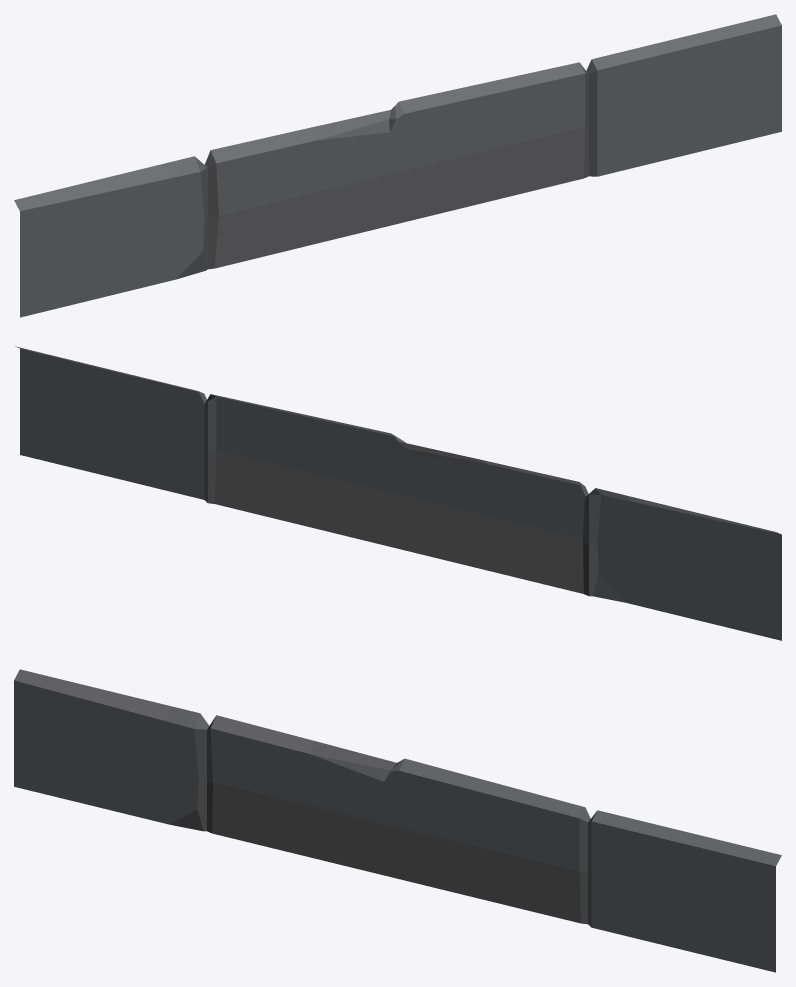
The model's file is SM_Foundation_3m_B.gltf.
3 views of the same model, one above another, from view 1: azimuth 30°, elevation 25°; view 2: azimuth 150°, elevation 25°; view 3: azimuth 330°, elevation 25° (orthographic).
Visible parts, largest first — view 1: SM_Foundation_3m_B; view 2: SM_Foundation_3m_B; view 3: SM_Foundation_3m_B.
Part boxes in pixels (<box>): SM_Foundation_3m_B: <box>14,14,781,317</box>; SM_Foundation_3m_B: <box>15,346,781,640</box>; SM_Foundation_3m_B: <box>14,669,781,972</box>.
Bounding box in the file's own units: 3 × 0.4433 × 0.04.
Materials: 1 (1 with a texture image).
